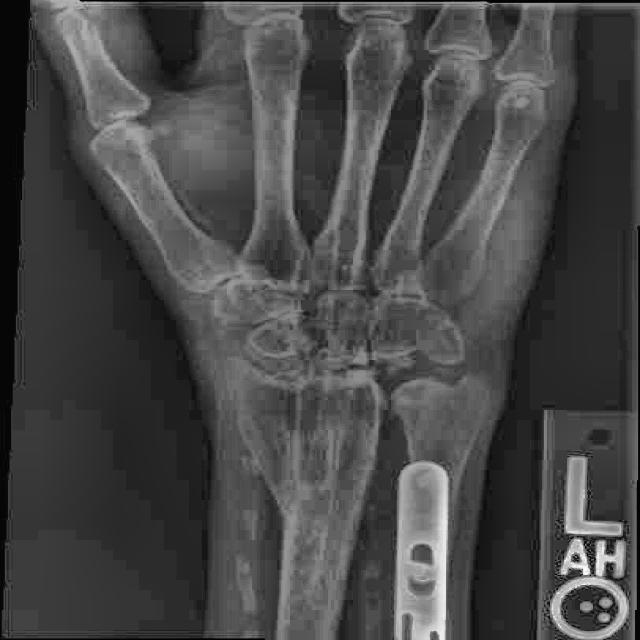wrist positive: (366, 335, 457, 384)
